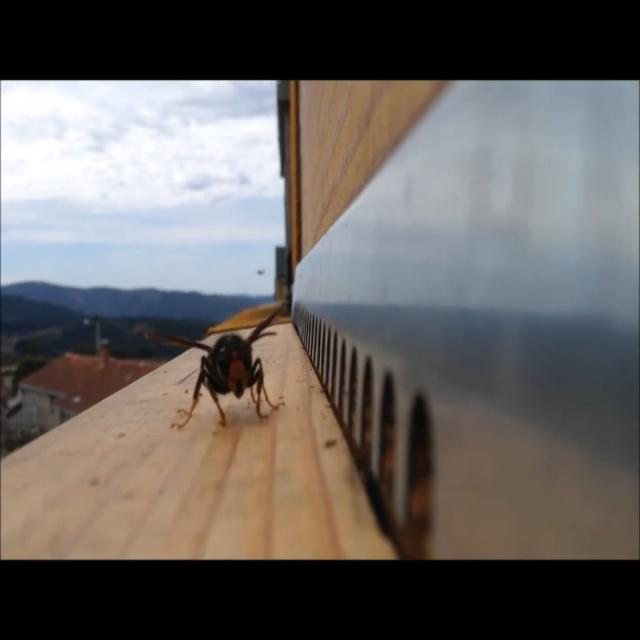Hornets: (141, 299, 294, 431)
